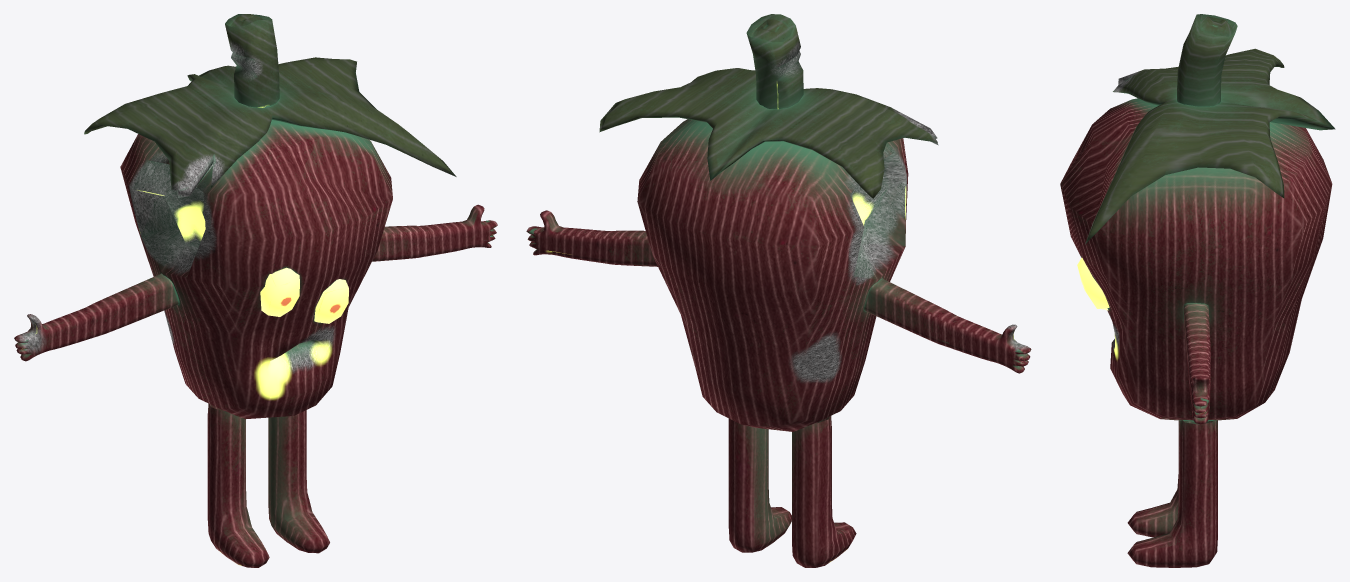
Rendered from Zberry_dude.fbx.
3 views of the same model, side by side, from view 1: azimuth 30°, elevation 25°; view 2: azimuth 150°, elevation 25°; view 3: azimuth 270°, elevation 25° (orthographic). The views are drawn at different scales.
Visible parts, largest first — view 1: Zberry_Dude; view 2: Zberry_Dude; view 3: Zberry_Dude.
Part boxes in pixels (x1,y1,x2,y2): Zberry_Dude: [14, 14, 497, 567]; Zberry_Dude: [526, 14, 1031, 567]; Zberry_Dude: [1060, 14, 1335, 567].
Size of the model in its own units: 437 by 453 by 212.
